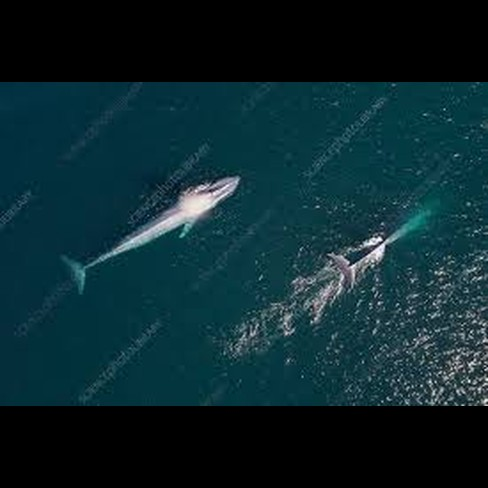bluewhale: (62, 170, 243, 300), (328, 196, 444, 294)
